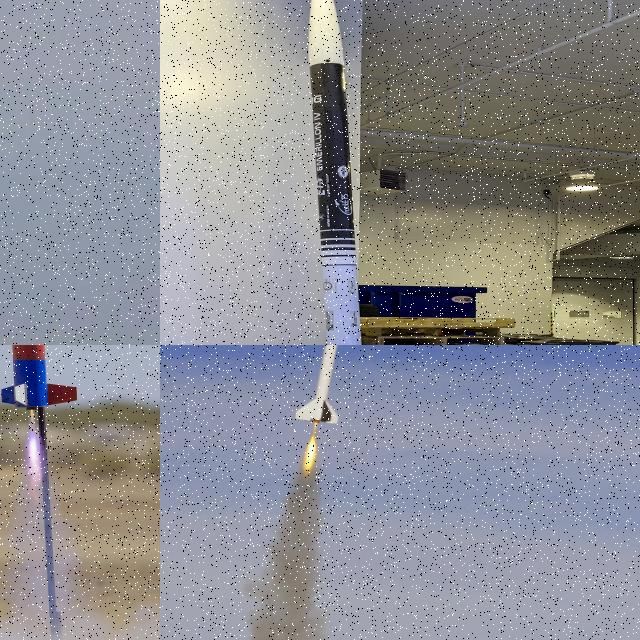Rocket: (308, 0, 362, 345), (0, 345, 79, 411), (294, 345, 353, 425)
